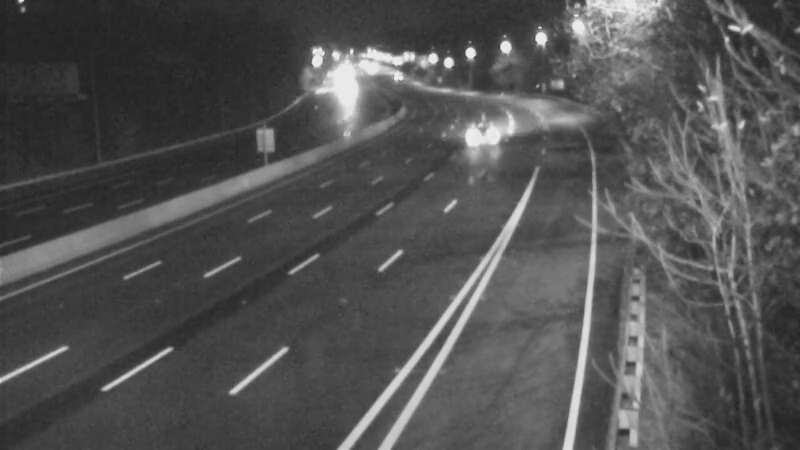vehicle: (372, 49, 422, 99), (453, 111, 503, 161)
